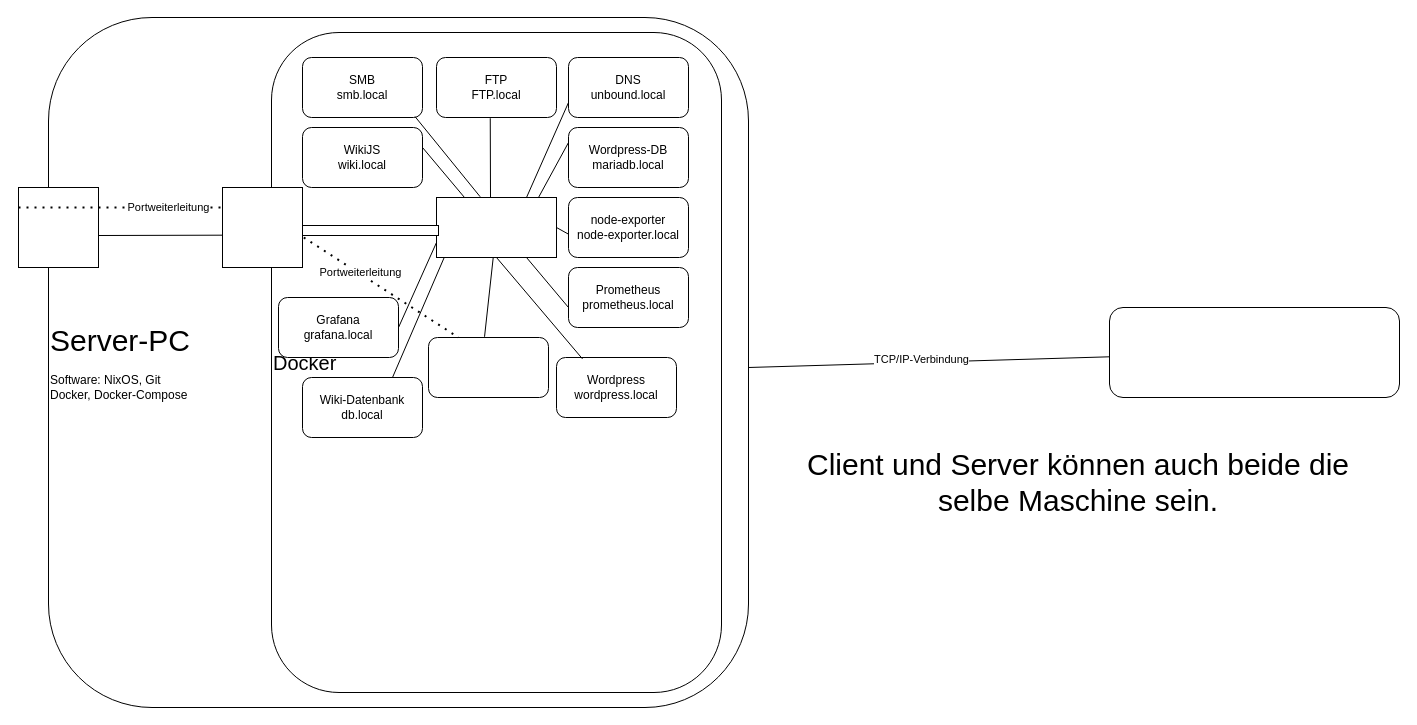
The diagram is 1417 pixels wide and 725 high, and some of its shapes have lost their labels. Here are the shapes that lost their labels. From the top down, the centre of each, then its label:
(x=58, y=227): Hostnetzwerk
(x=262, y=227): NAT
(x=496, y=227): Docker-Netzwerk 10.13.12.0/24 fd69:acab:1312::/64
(x=488, y=367): Debian-VNC vm.local
(x=1254, y=352): Client-PC Software: NixOS, Firefox, gnome-connections
